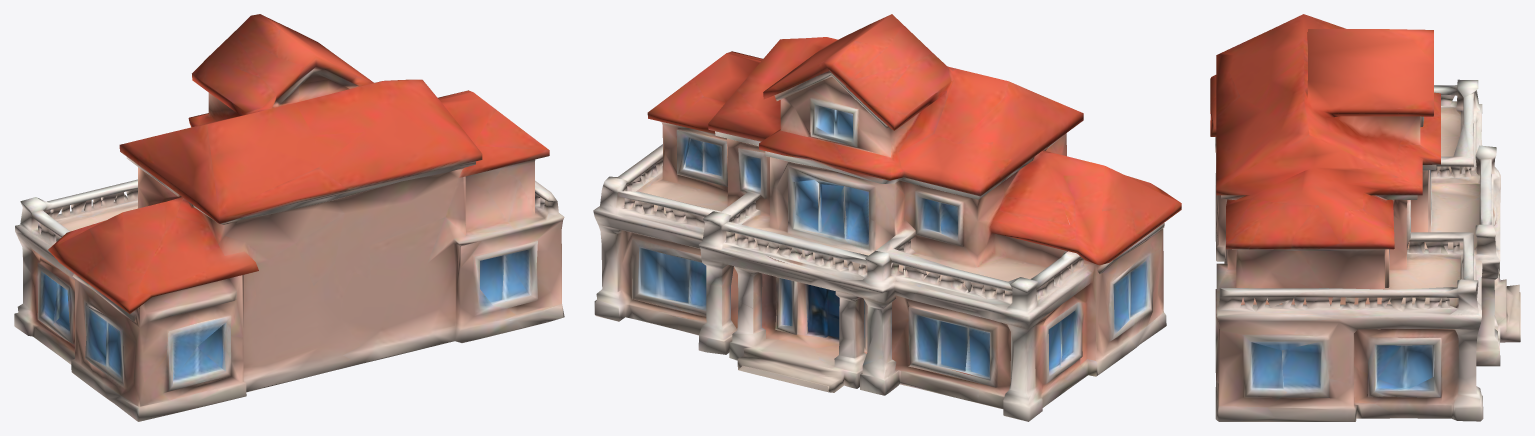
The model's file is casa-n07-3146c20d.glb.
3 renders of one model, left to right at view 1: azimuth 30°, elevation 25°; view 2: azimuth 150°, elevation 25°; view 3: azimuth 270°, elevation 25°, orthographic. The views are drawn at different scales.
Visible parts, largest first — view 1: casa_n07; view 2: casa_n07; view 3: casa_n07.
Part boxes in pixels (bbox=[...]): casa_n07: bbox=[14, 14, 564, 421]; casa_n07: bbox=[593, 14, 1181, 421]; casa_n07: bbox=[1210, 14, 1520, 421].
Size of the model in its own units: 18.4 by 11.21 by 10.84.
1 material, 1 textured.
